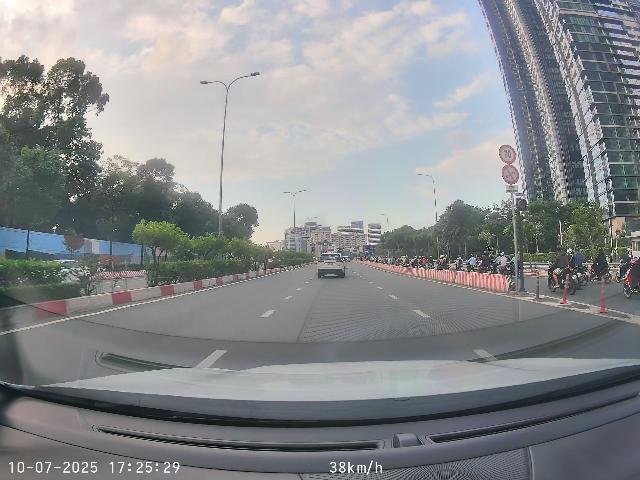127-toc-do-toi-da-70: (499, 144, 516, 164)
